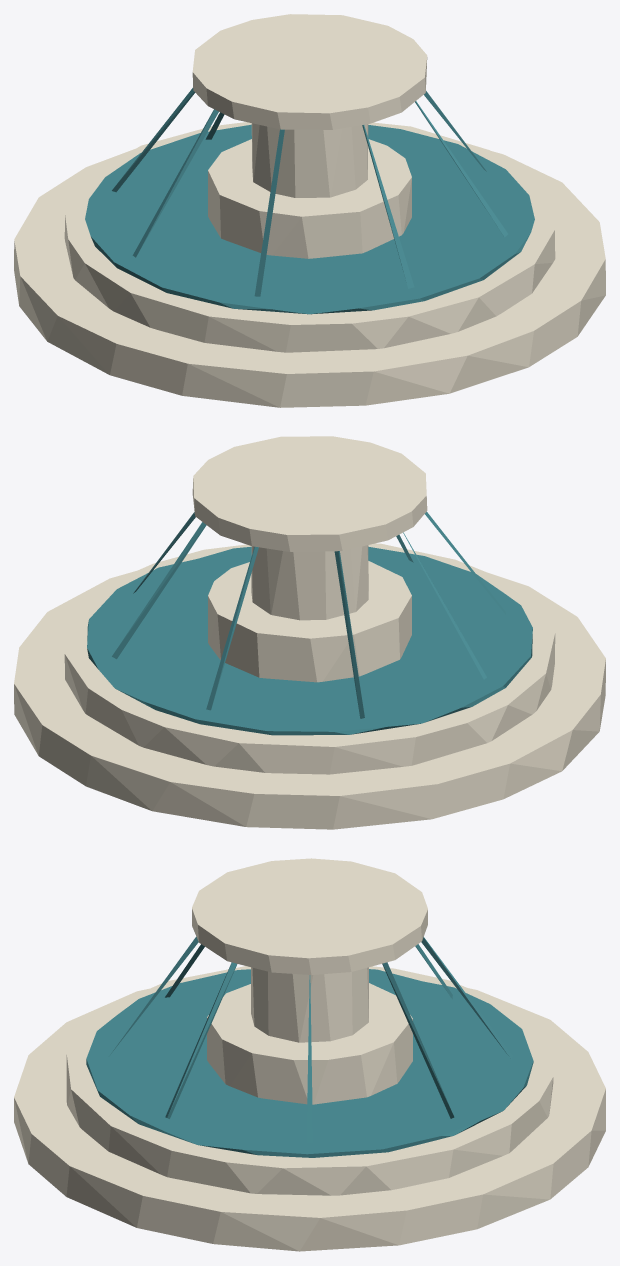
File: Fountain-lod.glb
3 renders of one model, top to bottom at view 1: azimuth 30°, elevation 25°; view 2: azimuth 150°, elevation 25°; view 3: azimuth 270°, elevation 25°, orthographic.
Visible parts, largest first — view 1: Fountain_Carved ivory.001, Fountain_Water.001; view 2: Fountain_Carved ivory.001, Fountain_Water.001; view 3: Fountain_Carved ivory.001, Fountain_Water.001.
Part boxes in pixels (x1,y1,x2,y2): Fountain_Carved ivory.001: [14, 14, 605, 407]; Fountain_Water.001: [85, 88, 534, 314]; Fountain_Carved ivory.001: [14, 436, 605, 829]; Fountain_Water.001: [87, 511, 532, 735]; Fountain_Carved ivory.001: [14, 858, 605, 1251]; Fountain_Water.001: [86, 936, 533, 1157].
Bounding box in the file's own units: 7.04 × 2.86 × 7.04.
